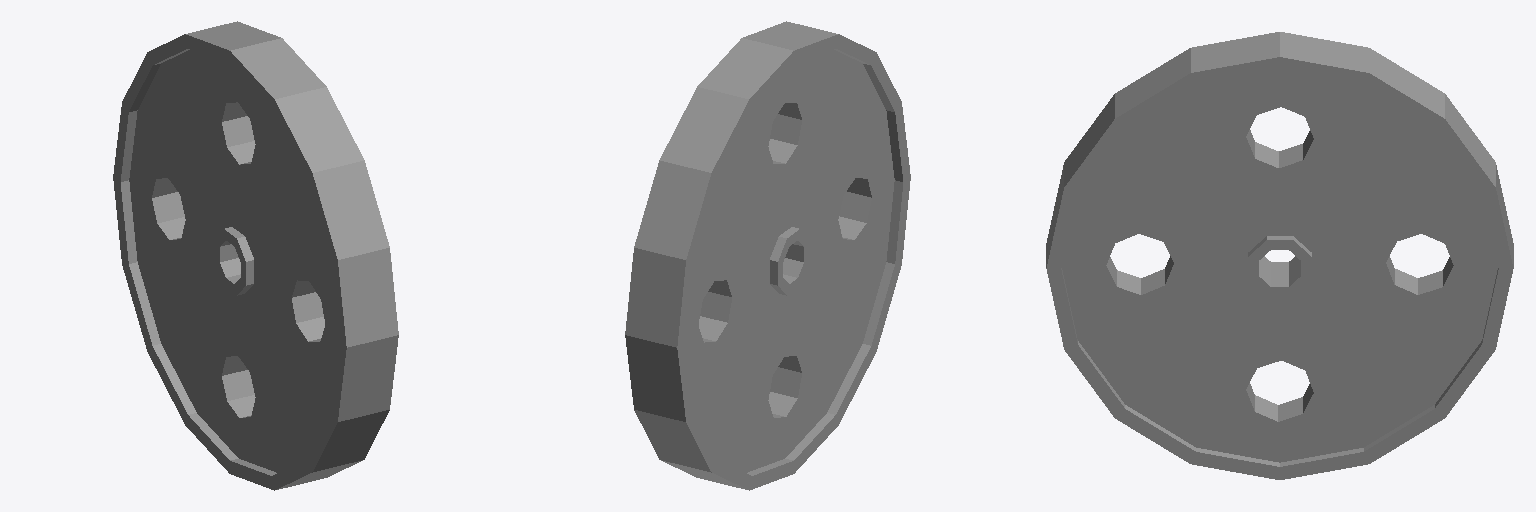
File: wheel_lo.obj
3 renders of one model, left to right at view 1: azimuth 30°, elevation 25°; view 2: azimuth 150°, elevation 25°; view 3: azimuth 270°, elevation 25°, orthographic.
Parts seen in each view (by area): view 1: wheel_lo_Circle.002; view 2: wheel_lo_Circle.002; view 3: wheel_lo_Circle.002.
Boxes of the visible parts, x1,y1,x2,y2 form: wheel_lo_Circle.002: [113, 21, 398, 490]; wheel_lo_Circle.002: [625, 21, 910, 490]; wheel_lo_Circle.002: [1046, 32, 1513, 479].
Bounding box in the file's own units: 0.2671 × 2.07 × 2.07.